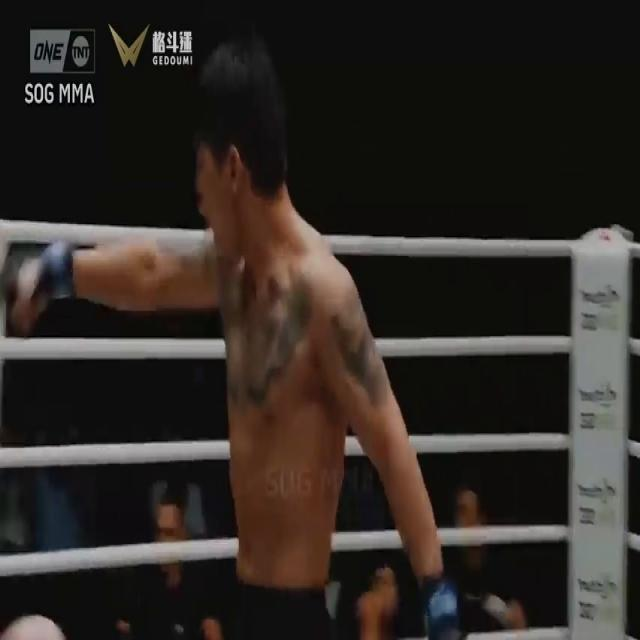fight: (40, 19, 471, 638)
